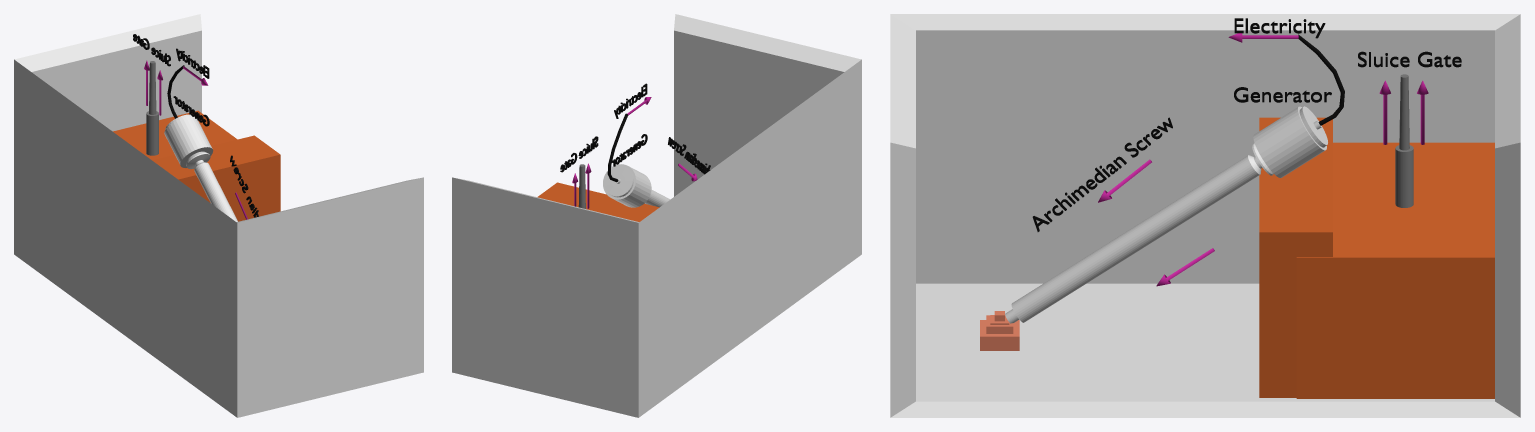
Rendered from archimedian-screw1.gltf.
3 renders of one model, left to right at view 1: azimuth 30°, elevation 25°; view 2: azimuth 150°, elevation 25°; view 3: azimuth 270°, elevation 25°, orthographic. The views are drawn at different scales.
Parts seen in each view (by area): view 1: Cube, Cube.003, Cylinder.001, Cube.002, Cylinder; view 2: Cube, Cylinder.001, Cube.003, Text.002; view 3: Cube, Cube.002, Cube.003, Cylinder.001, Cylinder, Cube.001, Text.002, Text.003, Text.001, Text.
Part boxes in pixels (x1,y1,x2,y2): Cube: (14, 14, 423, 417); Cube.003: (152, 135, 280, 221); Cylinder.001: (164, 114, 237, 221); Cube.002: (113, 110, 237, 160); Cylinder: (146, 61, 158, 155); Cube: (452, 14, 861, 417); Cylinder.001: (603, 164, 670, 207); Cube.003: (537, 182, 659, 221); Text.002: (668, 137, 710, 174); Cube: (890, 14, 1520, 417); Cube.002: (1296, 142, 1494, 398); Cube.003: (1259, 117, 1332, 397); Cylinder.001: (1005, 106, 1327, 323); Cylinder: (1395, 74, 1413, 207); Cube.001: (980, 311, 1019, 350); Text.002: (1032, 117, 1172, 231); Text.003: (1358, 51, 1461, 67); Text.001: (1234, 18, 1325, 38); Text: (1234, 87, 1331, 102).
Size of the model in its own units: 2.08 by 2.53 by 4.32.
